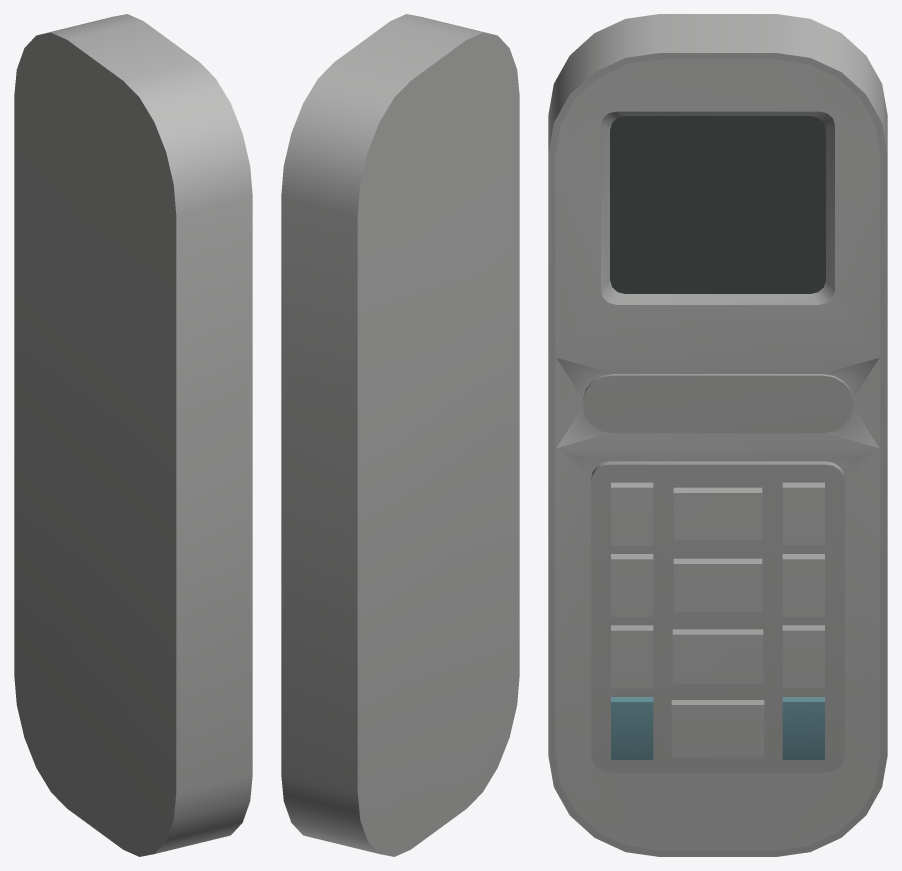
File: Pyulty.fbx
3 views of the same model, side by side, from view 1: azimuth 30°, elevation 25°; view 2: azimuth 150°, elevation 25°; view 3: azimuth 270°, elevation 25° (orthographic). The views are drawn at different scales.
Parts seen in each view (by area): view 1: pult; view 2: pult; view 3: pult.
Part boxes in pixels (x1=…): pult: x1=14, y1=14, x2=252, y2=856; pult: x1=281, y1=14, x2=519, y2=856; pult: x1=548, y1=14, x2=887, y2=856.
Size of the model in its own units: 0.7156 by 0.2362 by 1.87.
